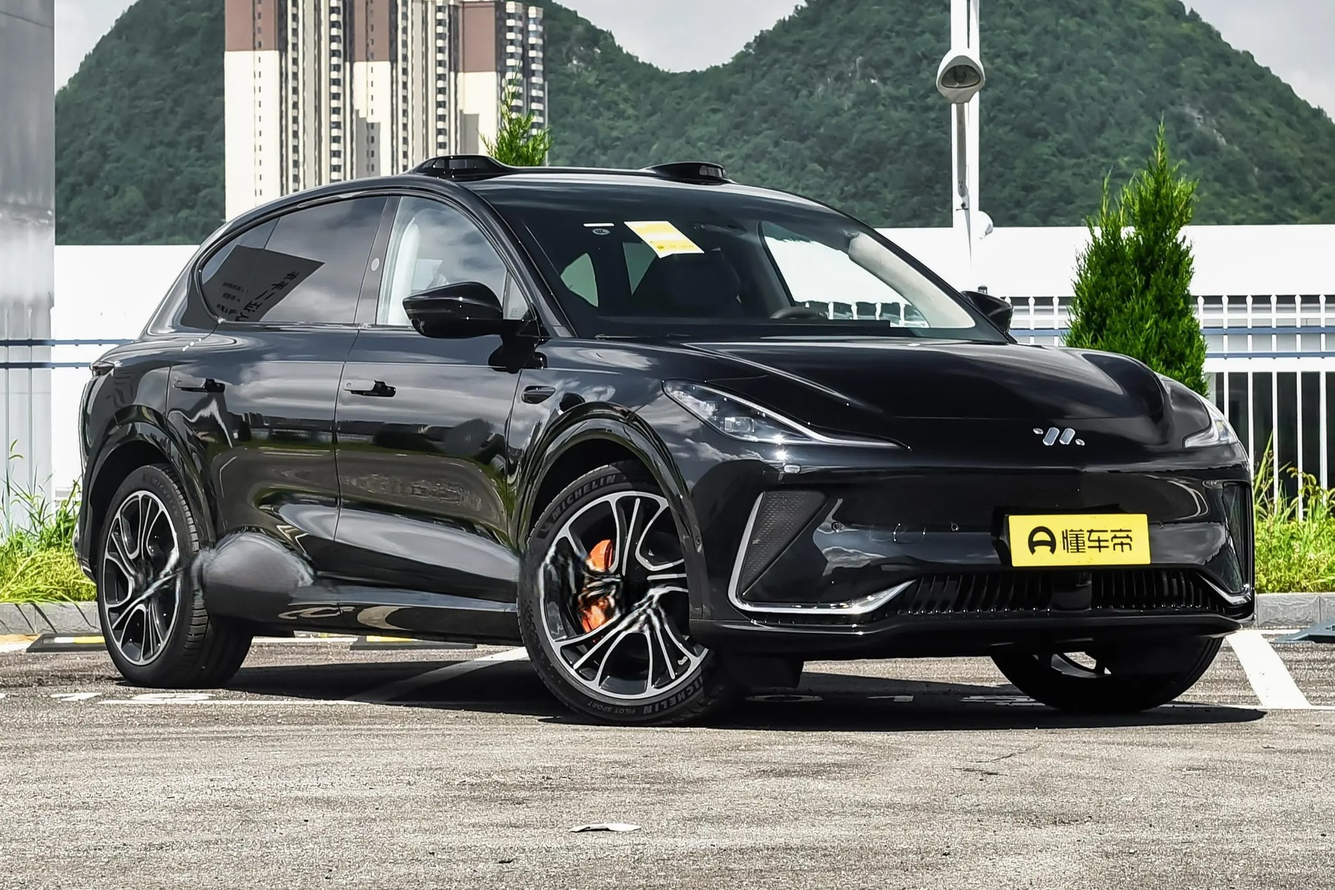IM: (1034, 428, 1085, 445)
